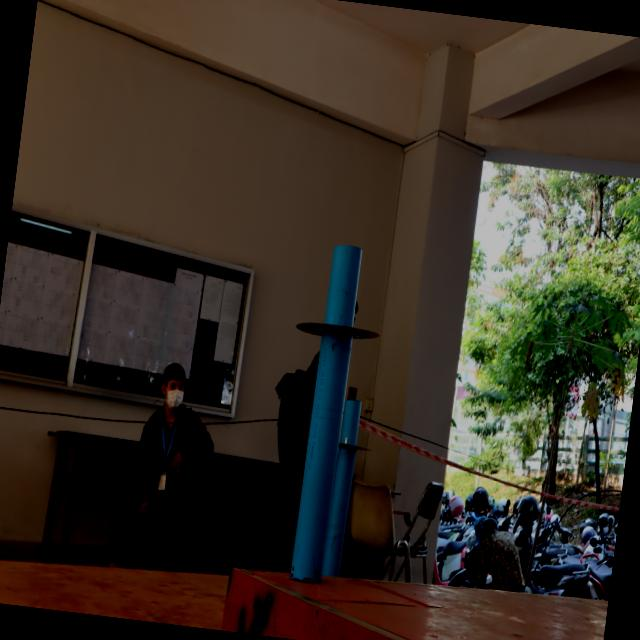pole: (280, 234, 390, 398), (327, 393, 379, 470)
